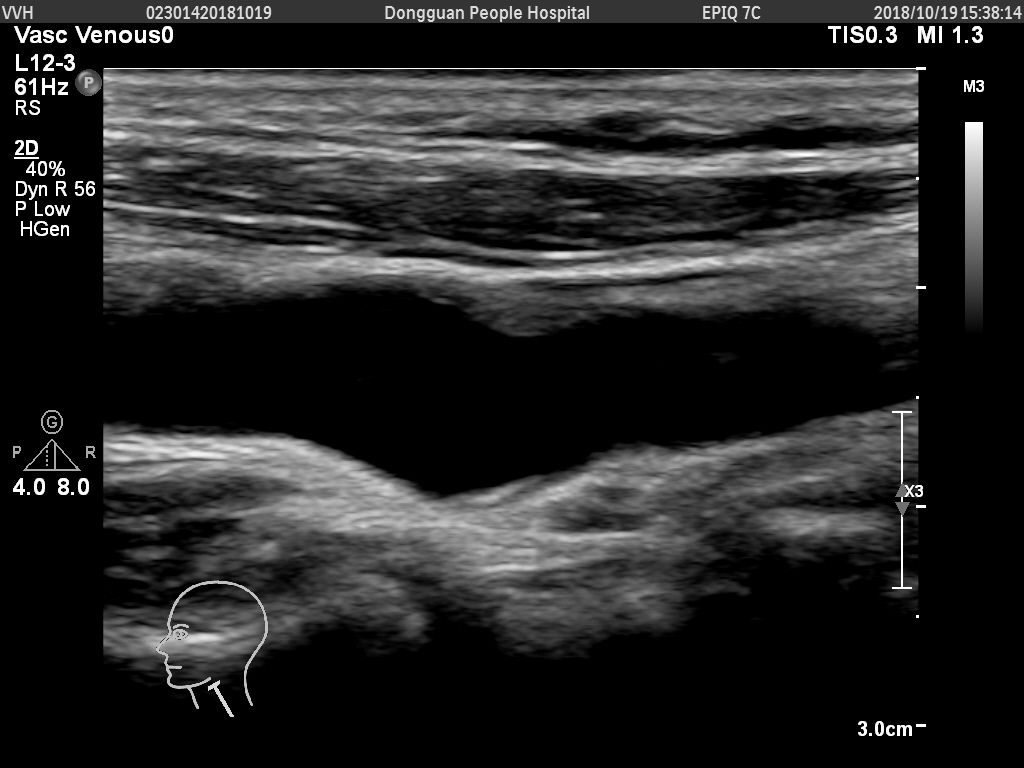plaque: (394, 271, 650, 355)
vessel: (314, 250, 705, 524)
